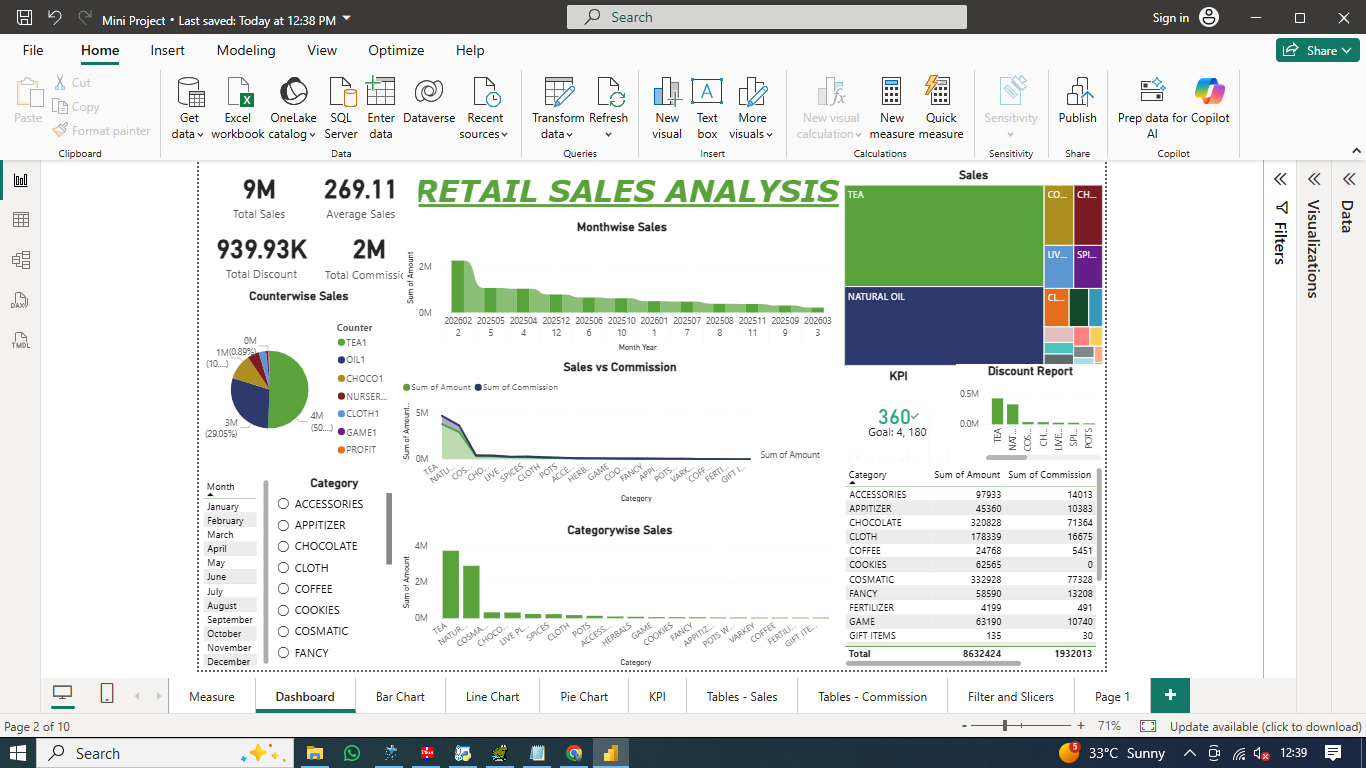

This screenshot's page, from the dashboard's own definition file:
{"tool":"powerbi","page":{"name":"Dashboard","canvas":[1280,720],"ordinal":1},"visuals":[{"type":"textbox","box":[57.1,11.4,1222.9,72.9],"z":0},{"type":"card","fields":{"Values":["Fact Table.Total Sales"]},"box":[0,0,170,95],"z":1000},{"type":"tableEx","fields":{"Values":["Fact Table.Category","Sum(Fact Table.Amount)","Sum(Fact Table.Commission)","Avg(Fact Table.Commission)"]},"box":[906.4,429.2,374.1,290.8],"z":2000},{"type":"textbox","box":[982.6,261.2,234.4,26.8],"z":3000},{"type":"columnChart","title":"Categorywise Sales","fields":{"Category":["Fact Table.Category"],"Y":["Sum(Fact Table.Amount)"]},"box":[282.4,512.5,624,207.5],"z":4000},{"type":"listSlicer","title":"Category","fields":{"Values":["Fact Table.Category"]},"box":[104.5,429.2,173.6,290.8],"z":5000},{"type":"stackedAreaChart","title":"Sales vs Commission","fields":{"Category":["Fact Table.Category"],"Y":["Sum(Fact Table.Amount)","Sum(Fact Table.Commission)"]},"box":[282.4,282.4,624,206.1],"z":6000},{"type":"pieChart","title":"Counterwise Sales","fields":{"Category":["Fact Table.Counter"],"Y":["Sum(Fact Table.Amount)"]},"box":[0,181.7,281.7,265],"z":7000},{"type":"card","fields":{"Values":["Fact Table.Avg_sales"]},"box":[146.7,0,163.3,95],"z":8000},{"type":"card","fields":{"Values":["Sum(Fact Table.Discount)"]},"box":[0,85,176.7,95],"z":9000},{"type":"card","fields":{"Values":["Sum(Fact Table.Commission)"]},"box":[170,85,141.7,96.7],"z":10000},{"type":"kpi","title":"KPI","fields":{"Indicator":["Fact Table.Total Sales"],"TrendLine":["Fact Table.Product Name"],"Goal":["Sum(Fact Table.Qty)","Fact Table.MTD_sales"]},"box":[906.4,295.1,162.4,134.1],"z":11000},{"type":"ribbonChart","title":"Monthwise Sales","fields":{"Category":["Fact Table.M","Fact Table.Month Year"],"Y":["Sum(Fact Table.Amount)"]},"box":[288,84.7,618.4,190.6],"z":12000},{"type":"treemap","title":"Sales","fields":{"Group":["Fact Table.Category"],"Values":["Sum(Fact Table.Amount)"]},"box":[906.4,11.3,374.1,283.8],"z":13000},{"type":"tableEx","fields":{"Values":["Fact Table.Month.Variation.Date Hierarchy.Month"]},"box":[4.2,429.2,104.5,290.8],"z":14000},{"type":"lineClusteredColumnComboChart","title":"Discount Report","fields":{"Category":["Fact Table.Category"],"Y":["Sum(Fact Table.Discount)"]},"box":[1068.7,288,210.4,141.2],"z":15000}]}

Visuals, with their boxes on the page's 1280x720 design canvas (x1, y1, x2, y2). These are canvas units, not pixel positions in the 1366x768 screenshot, which may show the page scaled, cropped or inside an application window:
textbox: 57 11 1280 84
card - Fact Table.Total Sales: 0 0 170 95
tableEx - Fact Table.Category x Sum(Fact Table.Amount): 906 429 1280 720
textbox: 983 261 1217 288
"Categorywise Sales" columnChart: 282 512 906 720
"Category" listSlicer: 104 429 278 720
"Sales vs Commission" stackedAreaChart: 282 282 906 488
"Counterwise Sales" pieChart: 0 182 282 447
card - Fact Table.Avg_sales: 147 0 310 95
card - Sum(Fact Table.Discount): 0 85 177 180
card - Sum(Fact Table.Commission): 170 85 312 182
"KPI" kpi: 906 295 1069 429
"Monthwise Sales" ribbonChart: 288 85 906 275
"Sales" treemap: 906 11 1280 295
tableEx - Fact Table.Month.Variation.Date Hierarchy.Month: 4 429 109 720
"Discount Report" lineClusteredColumnComboChart: 1069 288 1279 429
